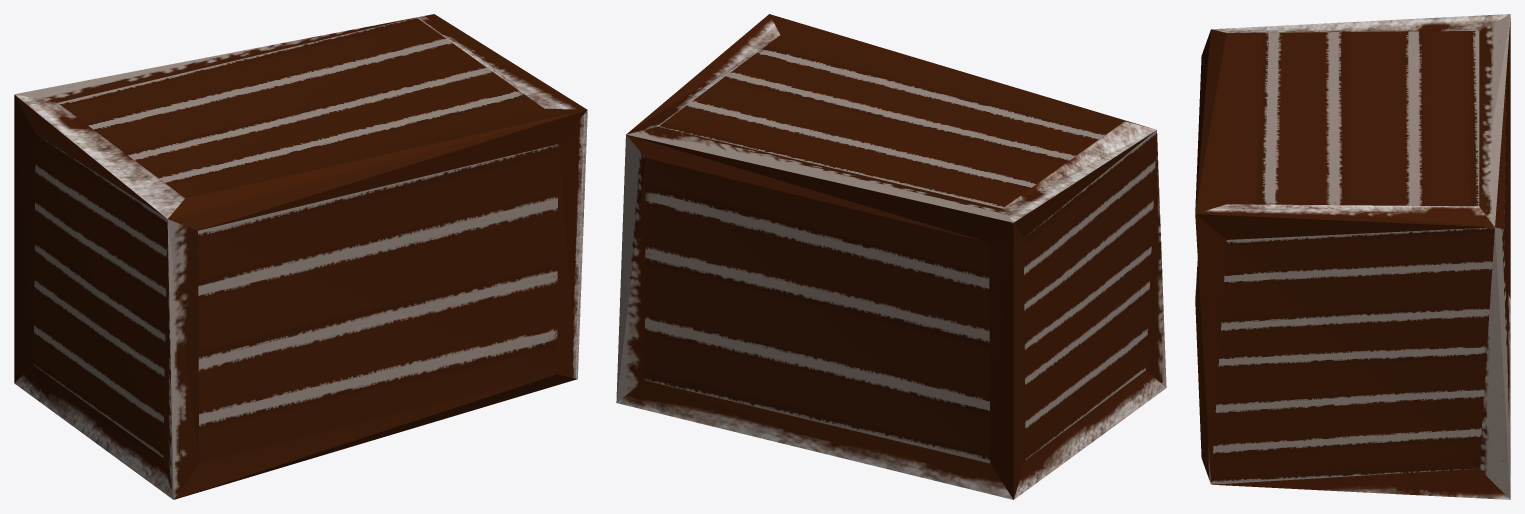
Rendered from snowbox_LOD1.obj.
3 renders of one model, left to right at view 1: azimuth 30°, elevation 25°; view 2: azimuth 150°, elevation 25°; view 3: azimuth 270°, elevation 25°, orthographic. The views are drawn at different scales.
Parts seen in each view (by area): view 1: Cube_Cube.002; view 2: Cube_Cube.002; view 3: Cube_Cube.002.
Boxes of the visible parts, x1,y1,x2,y2 form: Cube_Cube.002: (14,14,587,499); Cube_Cube.002: (616,14,1166,499); Cube_Cube.002: (1195,14,1510,499).
Bounding box in the file's own units: 1.17 × 0.78 × 0.78.
2 materials, 2 textured.
